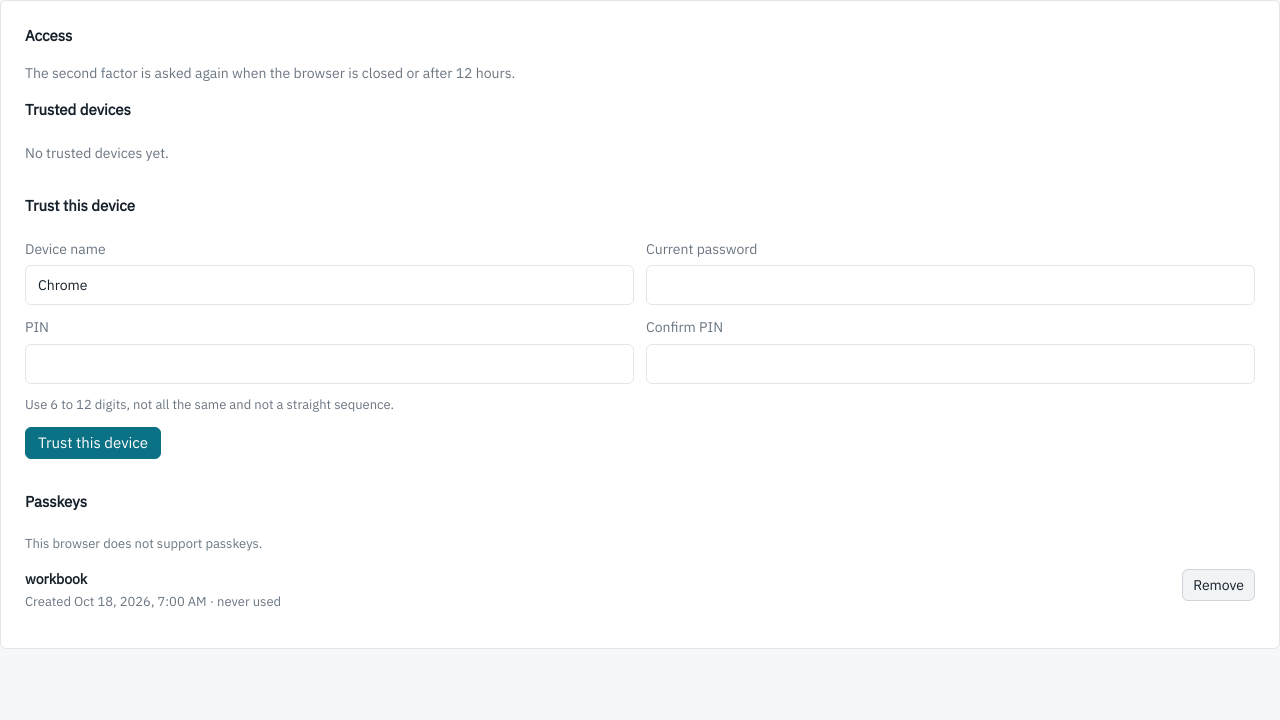
Scenario: AccessCard › removes a passkey after confirmation
The width and height of the screenshot is (1280, 720).
Click the button with aria-label "Remove workbook": (1219, 586) [1182, 570, 1255, 602]
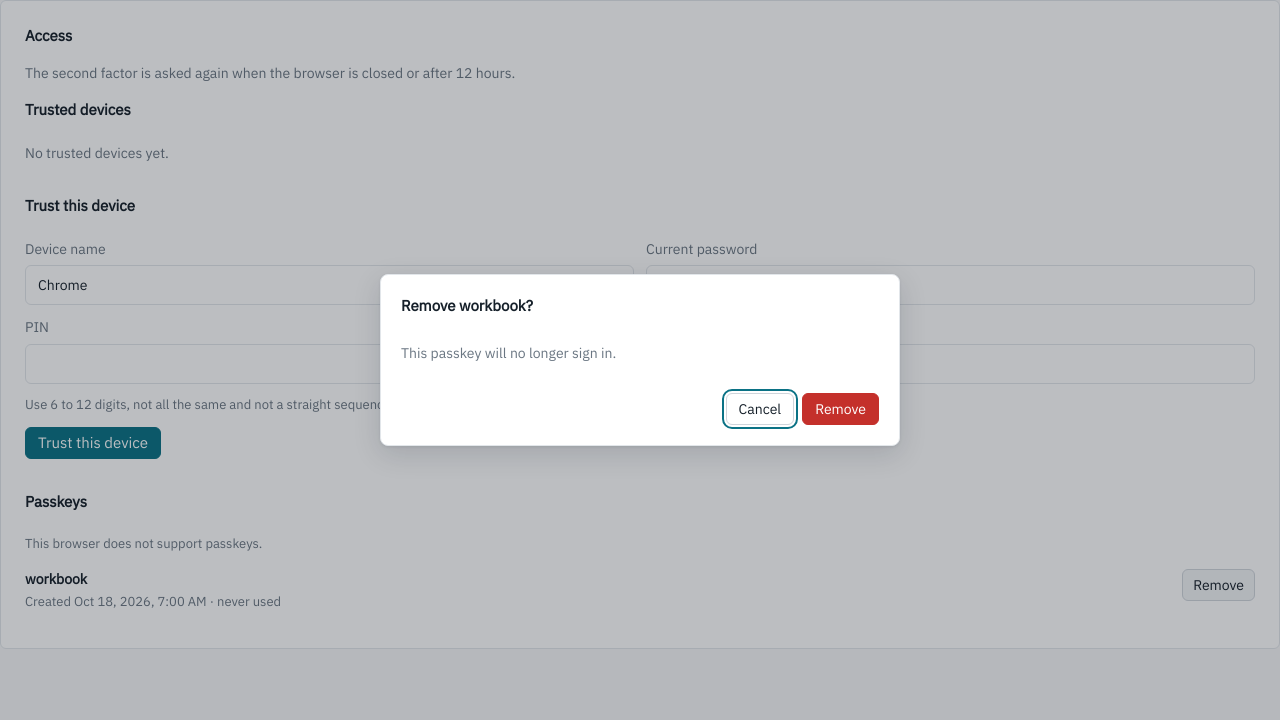
Result: the heading "Remove workbook?" is shown at [401, 296, 533, 315]
Result: the text "This passkey will no longer sign in." is shown at [401, 344, 616, 362]
Click the button "Remove": (841, 409) [802, 393, 879, 425]
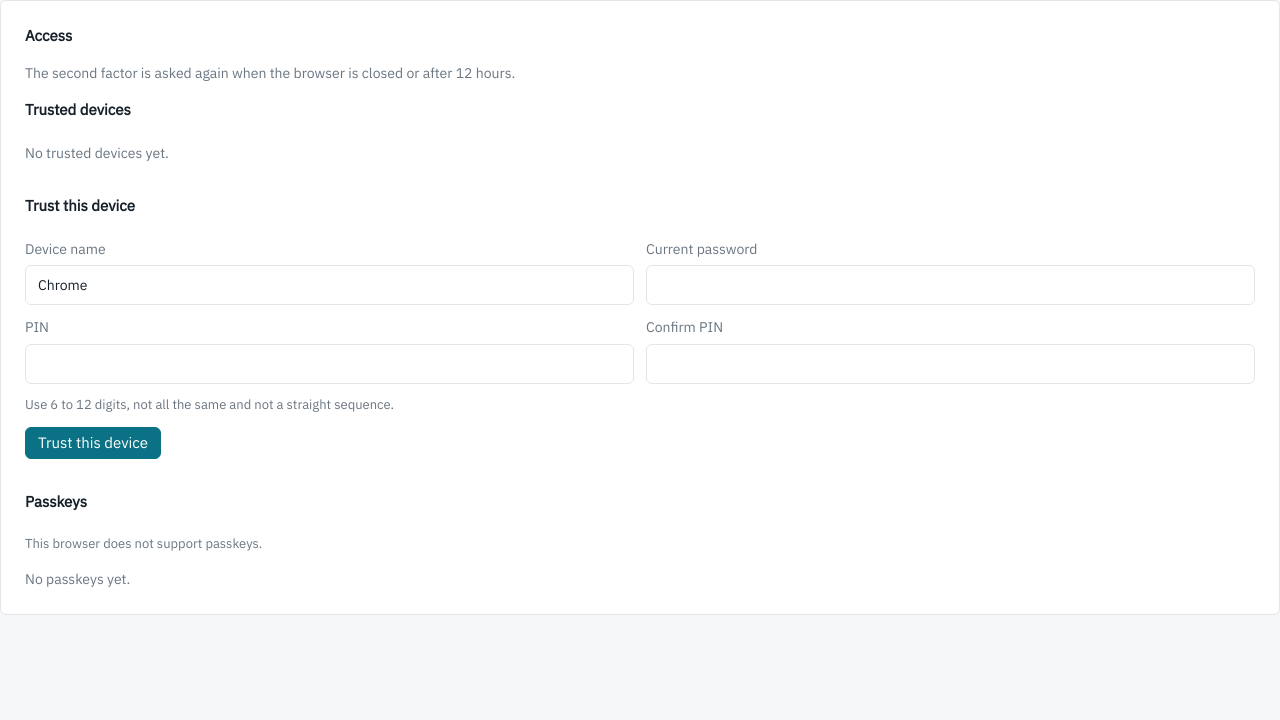
Result: the dialog is gone
Result: the text "No passkeys yet." is shown at [25, 570, 130, 588]
